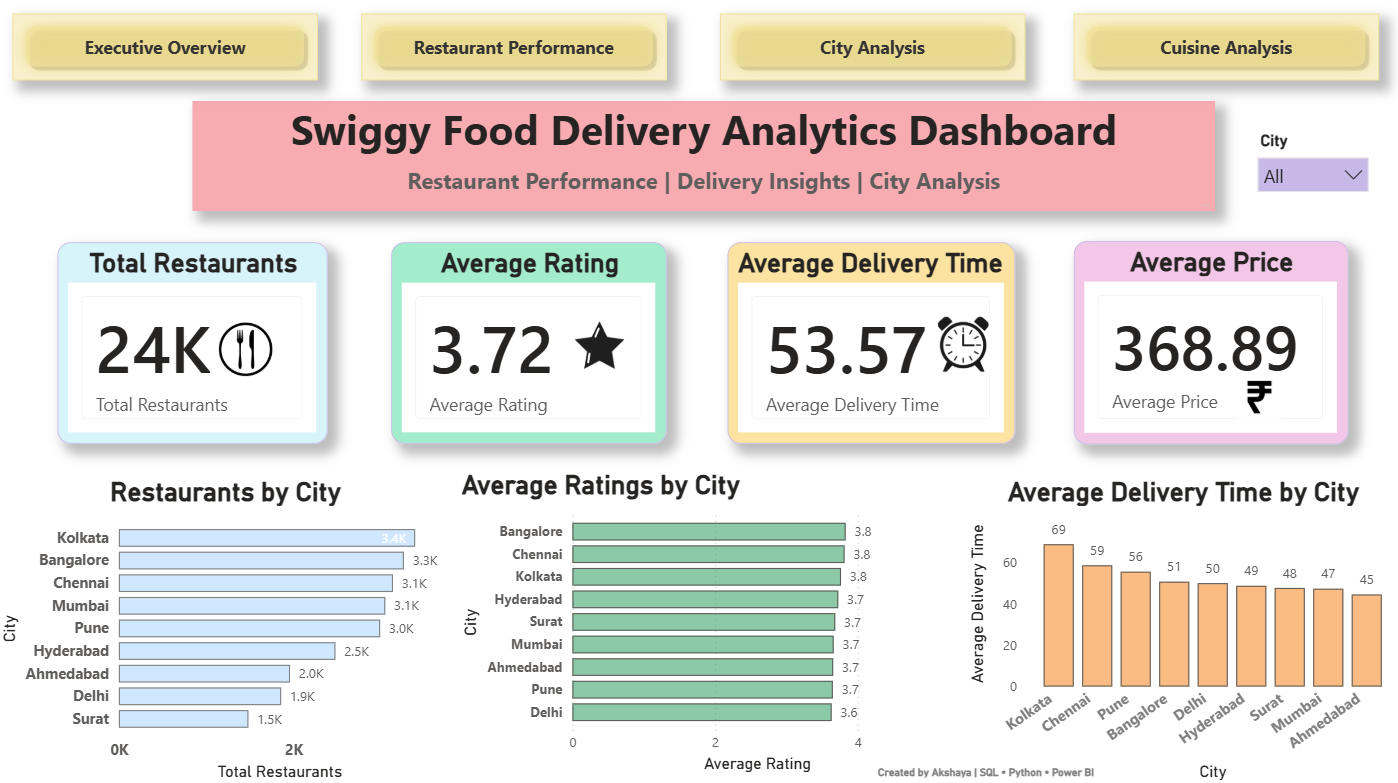

Layout of this report page (visuals, bound fields, positions):
{"tool":"powerbi","page":{"name":"Executive Overview","canvas":[1280,720],"ordinal":0},"visuals":[{"type":"textbox","title":"Swiggy Food Delivery Analytics Dashboard","box":[179.2,95.8,929.9,100.3],"z":0},{"type":"cardVisual","title":"Total Restaurants","fields":{"Data":["Swiggy_Data.Total Restaurants"]},"box":[56.3,223.8,245.8,183.4],"z":1000},{"type":"cardVisual","title":"Average Rating","fields":{"Data":["Swiggy_Data.Average Rating"]},"box":[360.7,223.8,250.7,183.4],"z":2000},{"type":"cardVisual","title":"Average Delivery Time","fields":{"Data":["Swiggy_Data.Average Delivery Time"]},"box":[666.4,223.8,261.7,183.4],"z":3000},{"type":"cardVisual","title":"Average Price","fields":{"Data":["Swiggy_Data.Average Price"]},"box":[980.7,222.6,249.5,184.6],"z":4000},{"type":"clusteredBarChart","title":"Restaurants by City","fields":{"Category":["Swiggy_Data.City"],"Y":["Swiggy_Data.Total Restaurants"]},"box":[0,436.6,419.4,282.5],"z":5000},{"type":"clusteredColumnChart","title":"Average Delivery Time by City","fields":{"Category":["Swiggy_Data.City"],"Y":["Swiggy_Data.Average Delivery Time"]},"box":[880.4,436.6,399.9,282.5],"z":6000},{"type":"barChart","title":"Average Ratings by City","fields":{"Category":["Swiggy_Data.City"],"Y":["Swiggy_Data.Average Rating"]},"box":[419.4,430.4,451.2,280],"z":7000},{"type":"slicer","fields":{"Values":["Swiggy_Data.City"]},"box":[1137.2,118.6,121.1,77],"z":8000},{"type":"actionButton","box":[16.3,16.3,277.5,60.6],"z":9000},{"type":"image","box":[514.8,269,69.7,95.4],"z":10000},{"type":"image","box":[195.7,278.8,64.8,85.6],"z":11000},{"type":"image","box":[825.5,290.3,110.8,53.6],"z":12000},{"type":"image","box":[1129.8,344,39.6,40.8],"z":13000},{"type":"actionButton","box":[658.8,16.3,277.5,60.6],"z":14000},{"type":"actionButton","box":[980.6,16.3,277.5,60.6],"z":15000},{"type":"actionButton","box":[333.5,16.3,277.5,60.6],"z":16000},{"type":"textbox","title":"Created by Akshaya | SQL • Python • Power BI","box":[797.3,699.5,218.9,19.6],"z":17000}]}

Visuals, with their boxes in screenshot pixels (x1, y1, x2, y2), scaled from the page's 1280x720 canvas onto the 1398x783 screenshot:
"Swiggy Food Delivery Analytics Dashboard" textbox: region(196, 104, 1211, 213)
"Total Restaurants" cardVisual: region(61, 243, 330, 443)
"Average Rating" cardVisual: region(394, 243, 668, 443)
"Average Delivery Time" cardVisual: region(728, 243, 1014, 443)
"Average Price" cardVisual: region(1071, 242, 1344, 443)
"Restaurants by City" clusteredBarChart: region(0, 475, 458, 782)
"Average Delivery Time by City" clusteredColumnChart: region(962, 475, 1397, 782)
"Average Ratings by City" barChart: region(458, 468, 951, 773)
slicer - Swiggy_Data.City: region(1242, 129, 1374, 213)
actionButton: region(18, 18, 321, 84)
image: region(562, 293, 638, 396)
image: region(214, 303, 285, 396)
image: region(902, 316, 1023, 374)
image: region(1234, 374, 1277, 418)
actionButton: region(720, 18, 1023, 84)
actionButton: region(1071, 18, 1374, 84)
actionButton: region(364, 18, 667, 84)
"Created by Akshaya | SQL • Python • Power BI" textbox: region(871, 761, 1110, 782)
